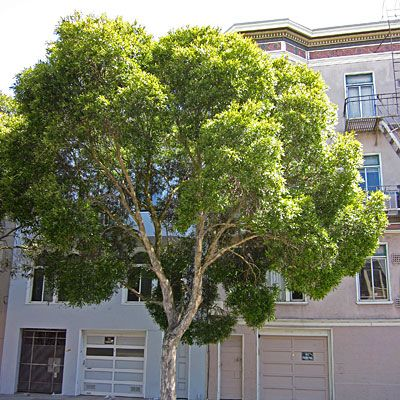tree: (1, 8, 392, 400)
